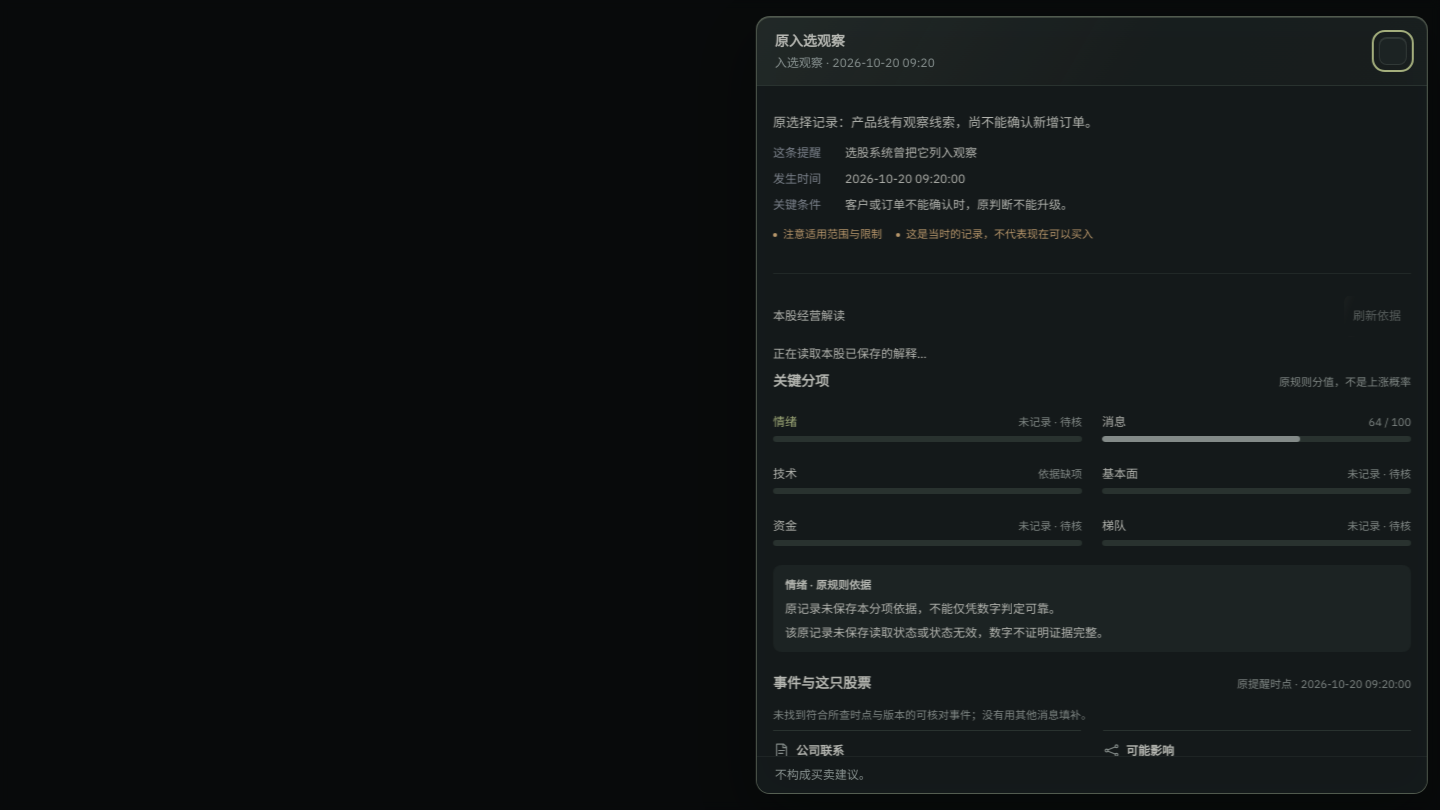
Test: notifications use only their archived finite score values and never fill missing placeholders
Step 1. Click the button with aria-label "核对技术评分依据" → (1056, 474), box 769,455 -> 1078,503
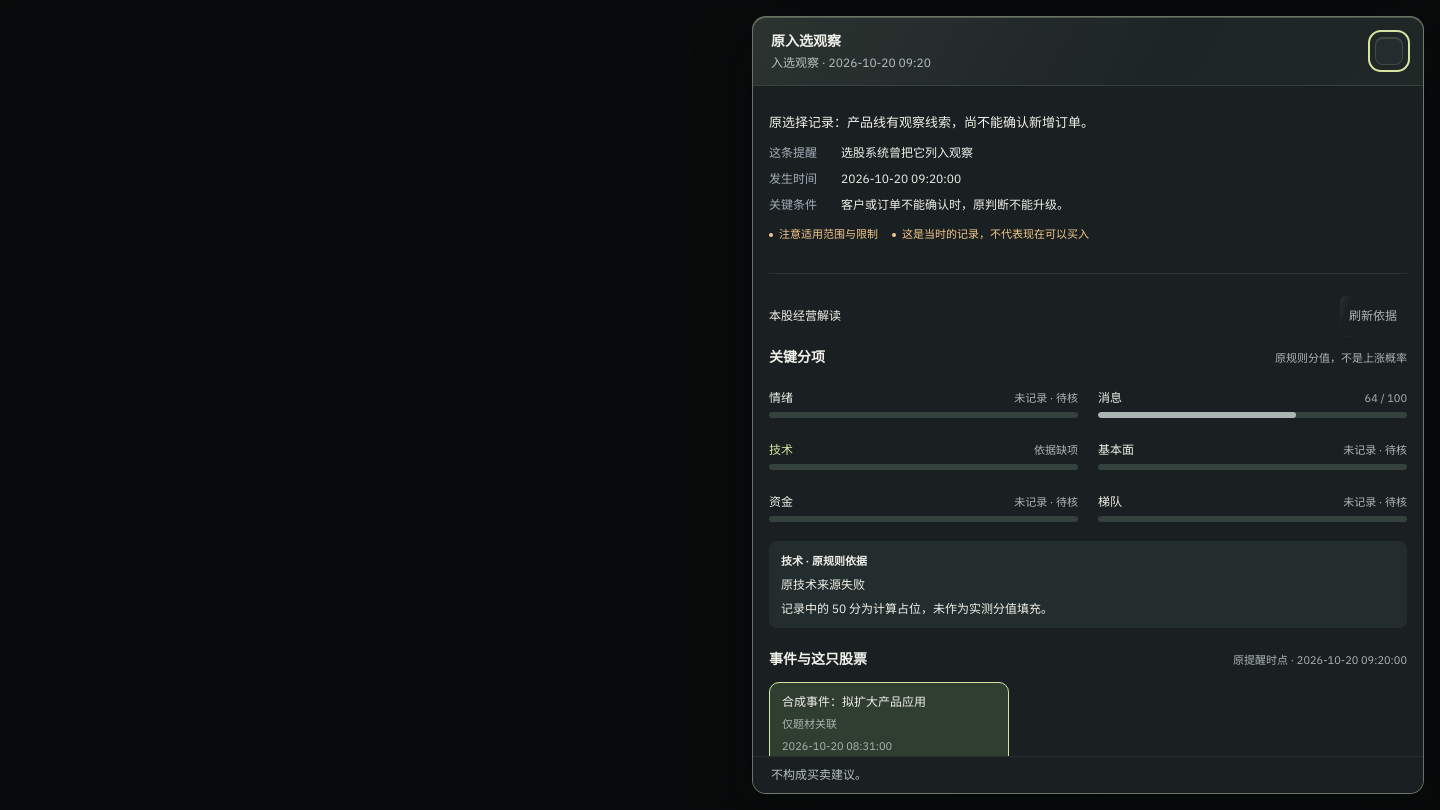
Expected: the element named "当前评分依据" shows "50 分为计算占位", 769,541 -> 1407,628
Step 2. Click the button with aria-label "核对消息评分依据" → (1386, 398), box 1098,379 -> 1407,427
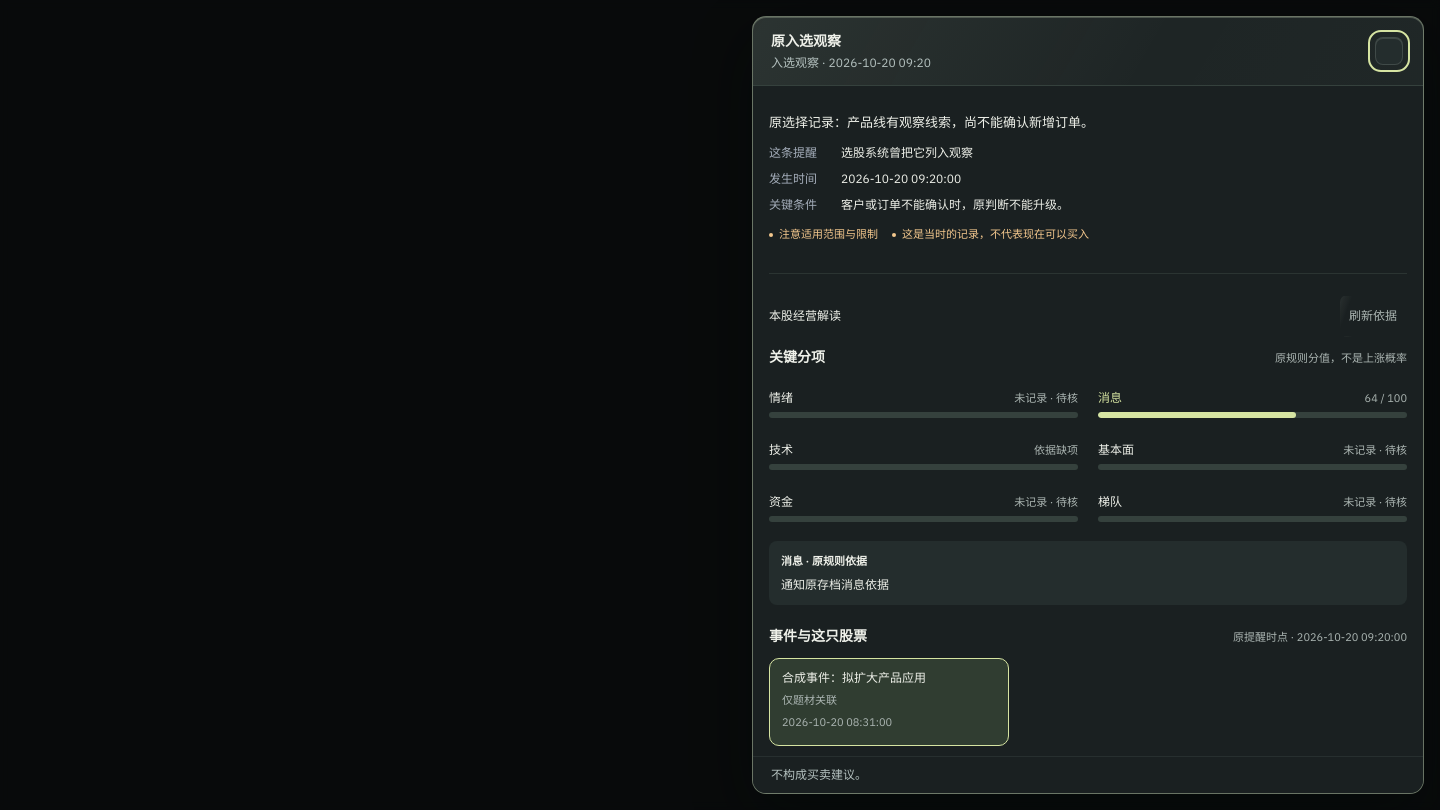
Expected: the element named "当前评分依据" shows "通知原存档消息依据", 781,577 -> 889,592
